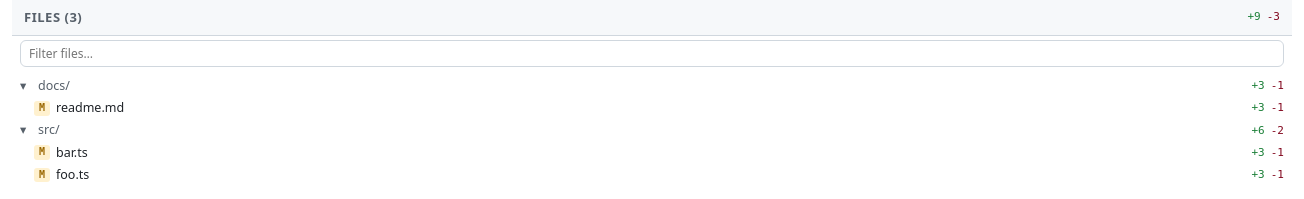
Test: FileTree › the filter input narrows the visible files
Type "foo" into the field with placeholder "Filter files…".
click(652, 54); type("foo")  # box [20,40,1284,67]
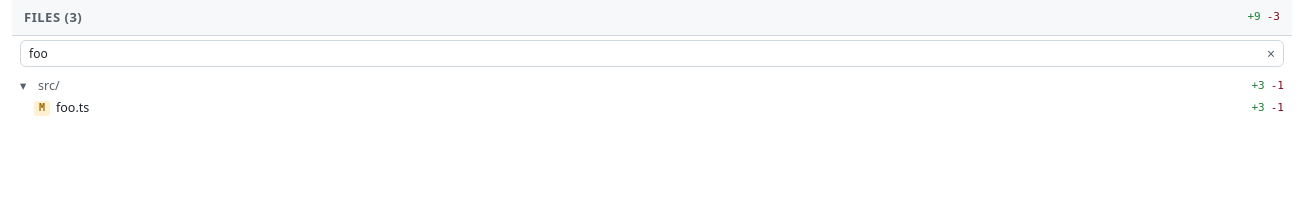
Expected: the text "foo.ts" is shown, [56,99,89,116]
Expected: the button "bar.ts" is gone
Expected: the button "readme.md" is gone
